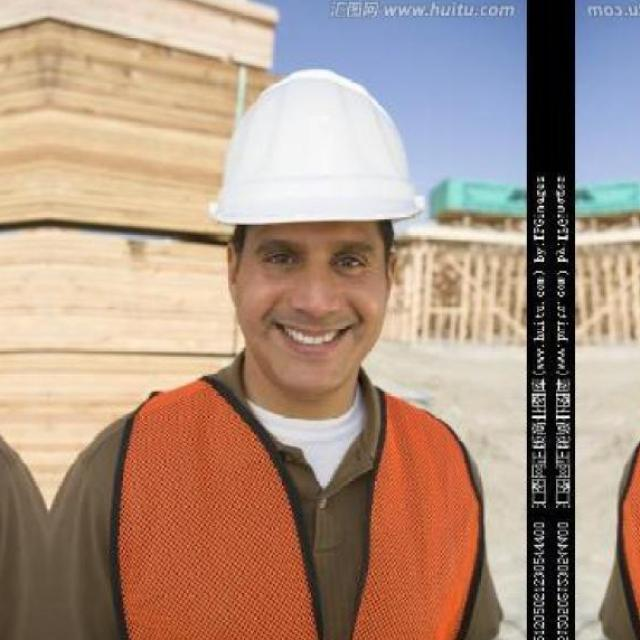helmet: (209, 67, 423, 225)
